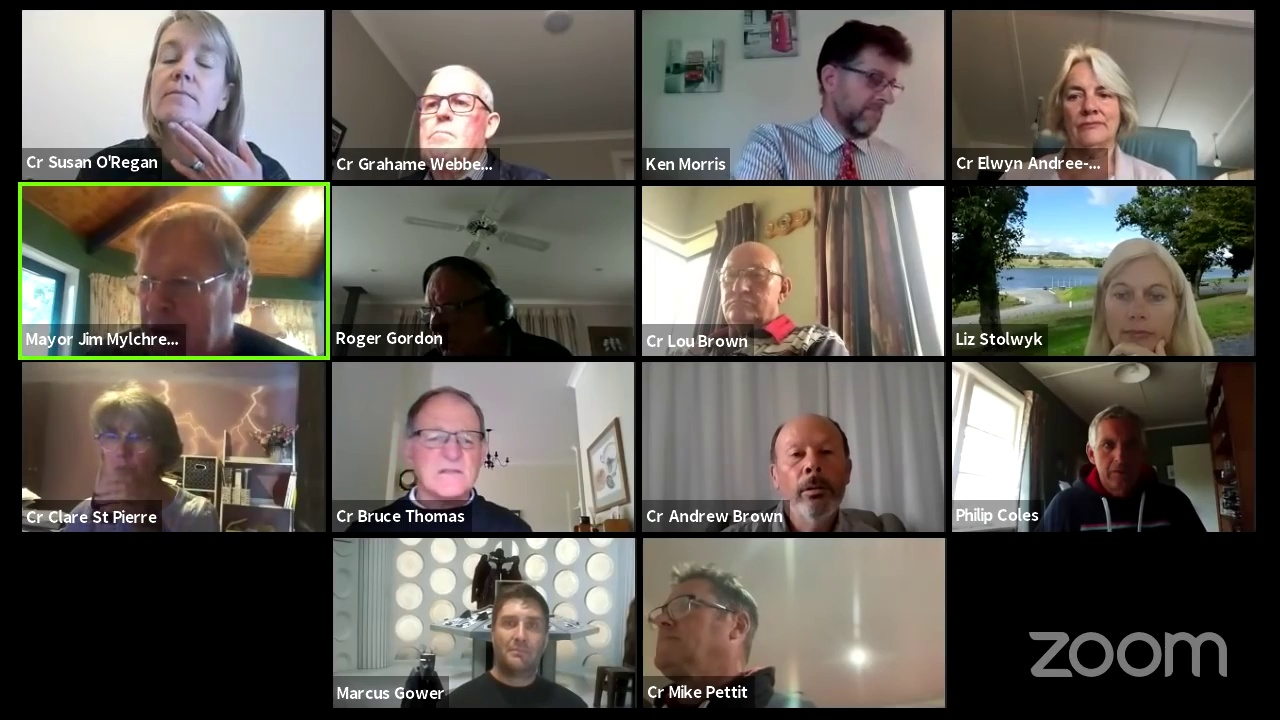Distracted: (131, 225, 234, 344), (138, 14, 240, 134), (819, 17, 907, 141), (653, 574, 748, 676), (426, 252, 503, 348)
Not Distracted: (763, 415, 862, 523), (402, 388, 486, 500), (85, 394, 174, 491), (416, 64, 499, 167), (1097, 247, 1181, 348), (1048, 51, 1133, 143), (708, 239, 788, 325), (484, 588, 556, 679), (1079, 410, 1154, 497)
